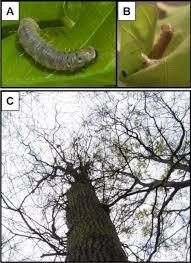Lobster Moth: (17, 14, 101, 82), (143, 21, 175, 68)
